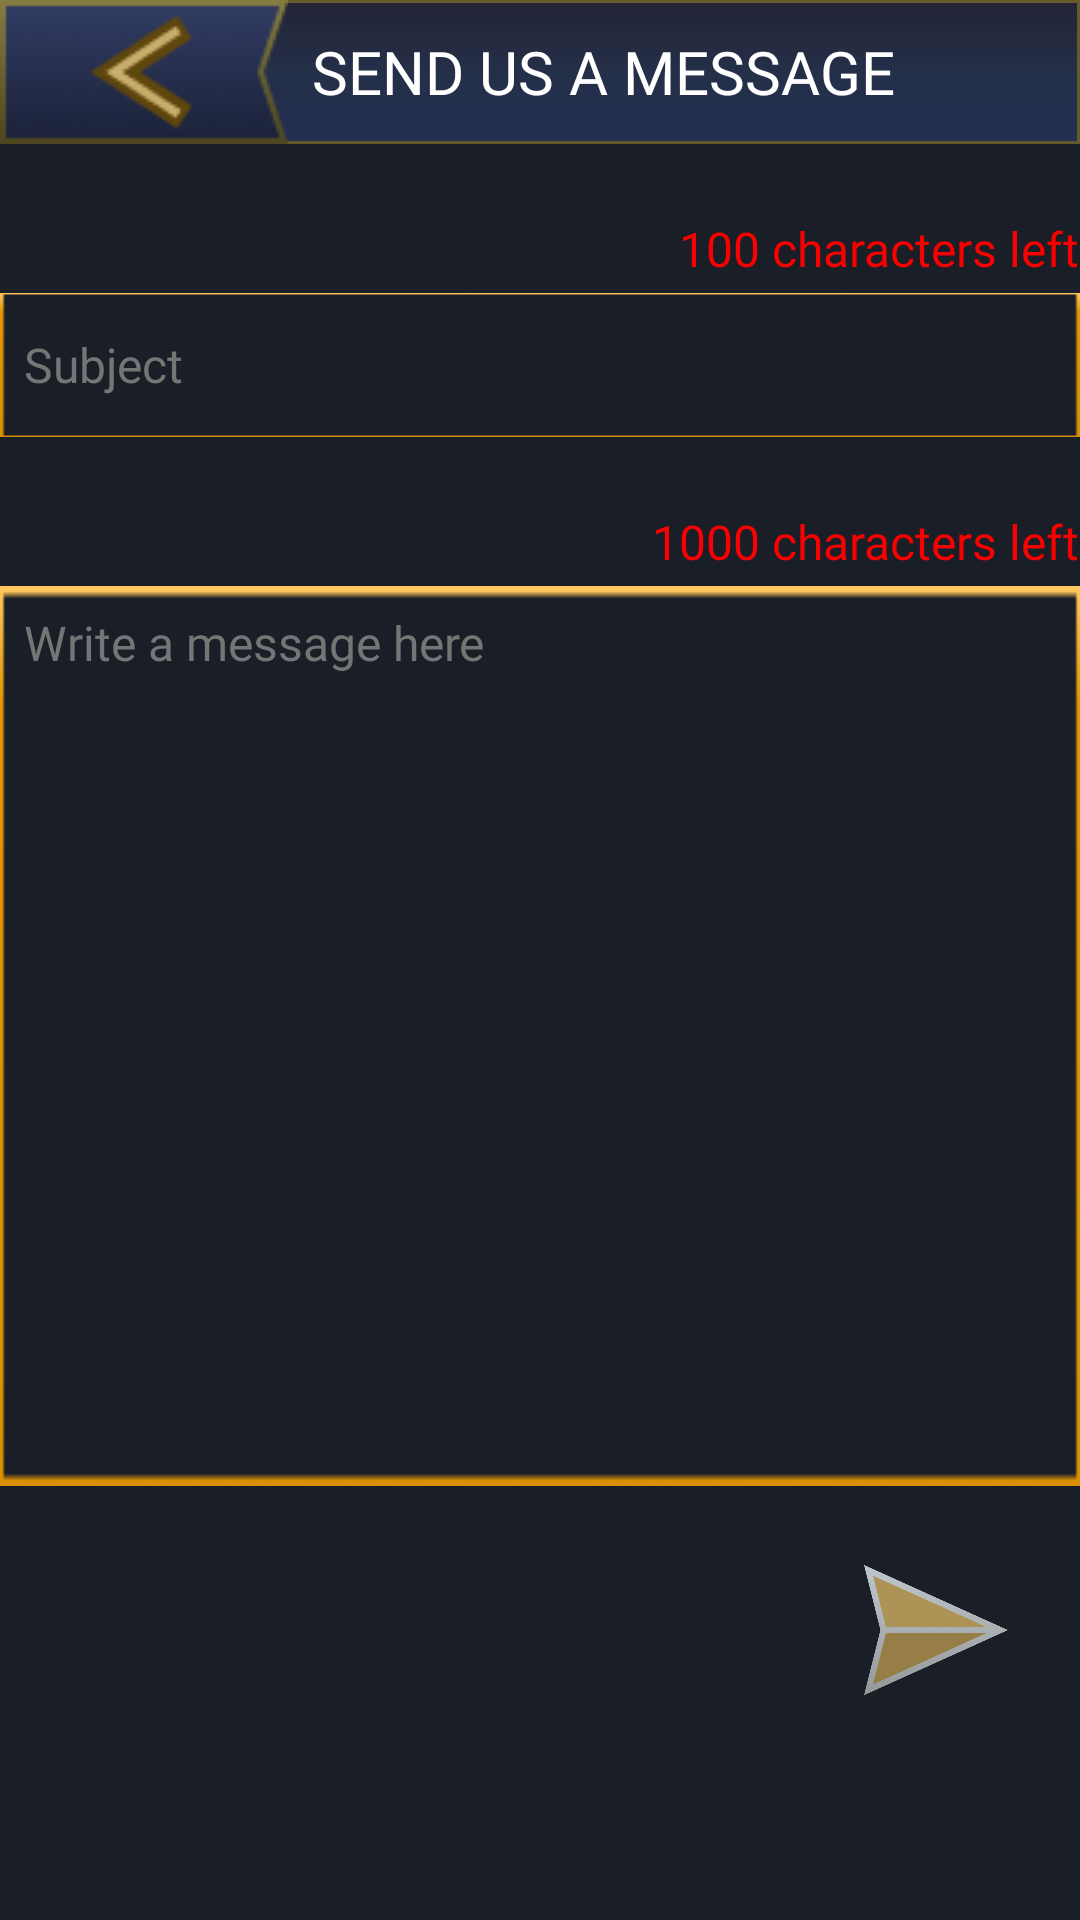

Named icons in this screenshot (1080x1920) and their bounding boxes, (x1, y1, x2, y2):
back: (0, 0, 288, 144)
send email: (864, 1565, 1007, 1695)
